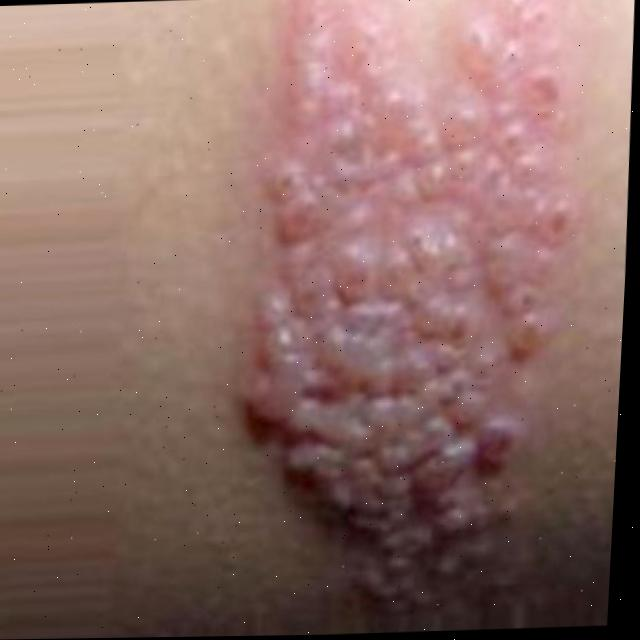Shingles: (210, 0, 599, 636)
